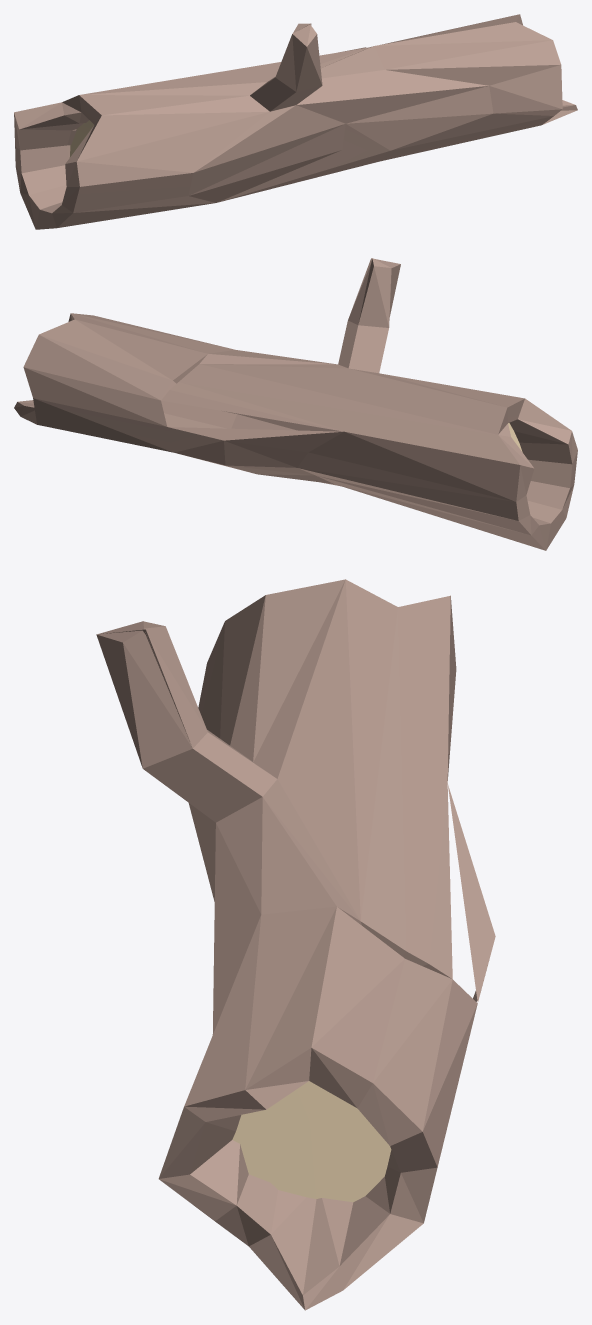
Rendered from stump.glb.
3 renders of one model, top to bottom at view 1: azimuth 30°, elevation 25°; view 2: azimuth 150°, elevation 25°; view 3: azimuth 270°, elevation 25°, orthographic. The views are drawn at different scales.
Visible parts, largest first — view 1: mesh212839880, mesh323533351; view 2: mesh212839880; view 3: mesh212839880, mesh323533351.
Boxes of the visible parts, left/top/right/bottom form: mesh212839880: left=14, top=14, right=577, bottom=229; mesh323533351: left=69, top=120, right=93, bottom=157; mesh212839880: left=14, top=258, right=577, bottom=550; mesh212839880: left=96, top=579, right=495, bottom=1310; mesh323533351: left=232, top=1081, right=391, bottom=1202.
Bounding box in the file's own units: 3.07 × 1.05 × 0.9976.
